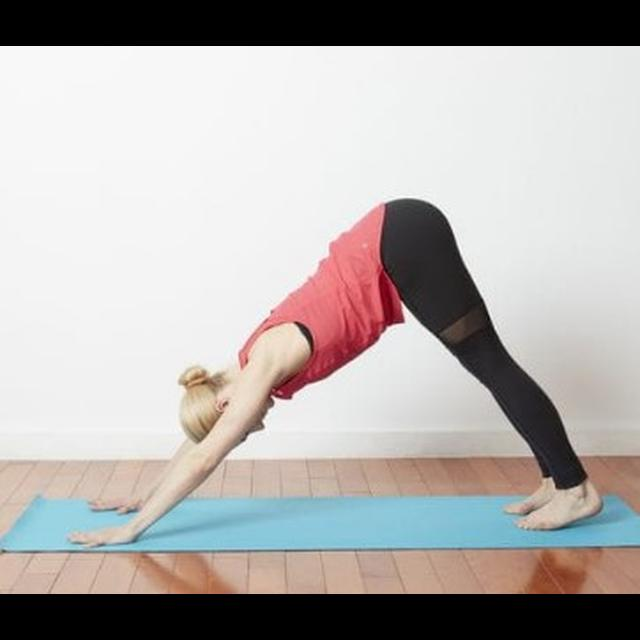Downward-Facing_Dog: (56, 191, 608, 554)
